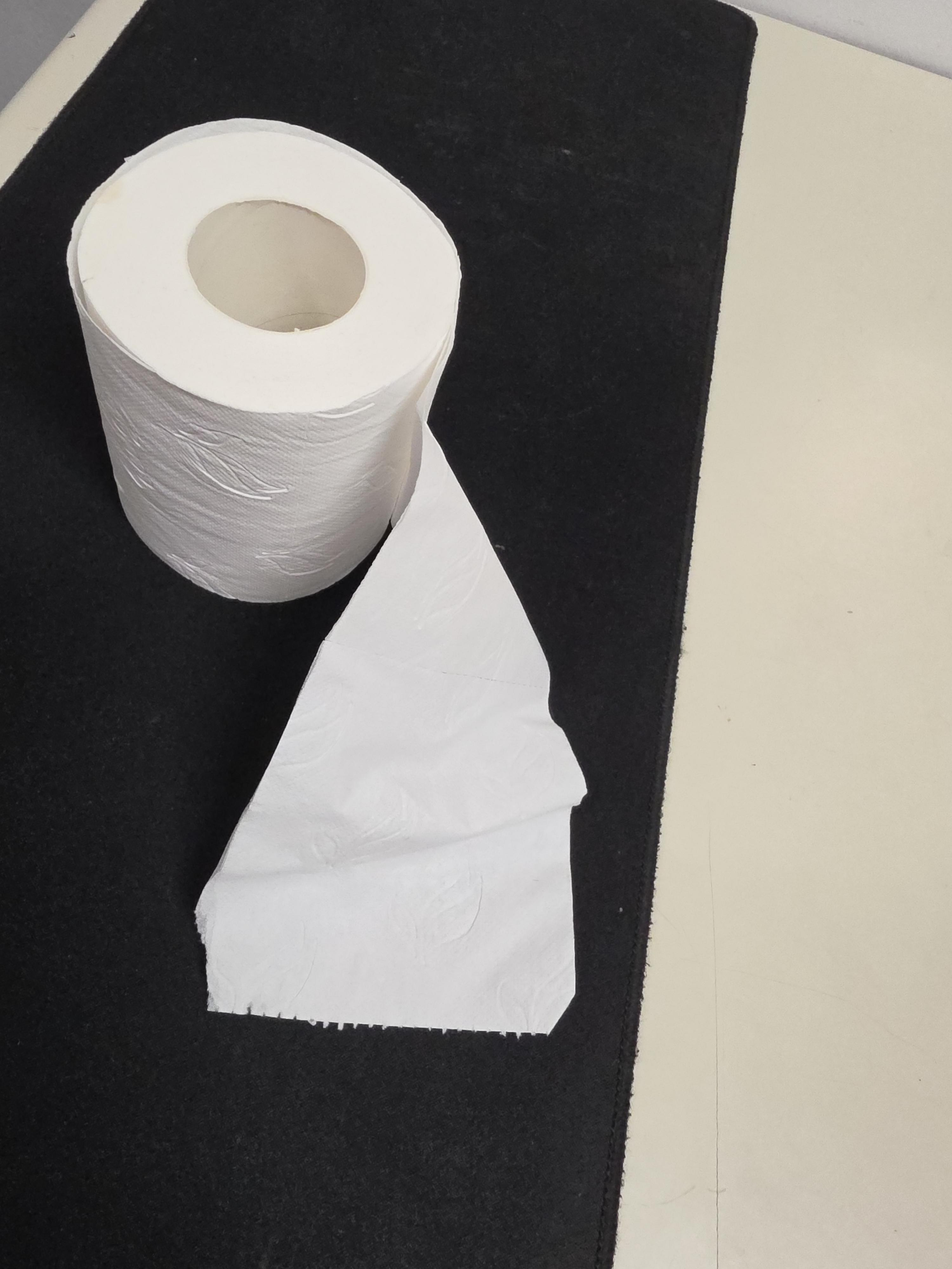tissue: (66, 118, 589, 1039)
